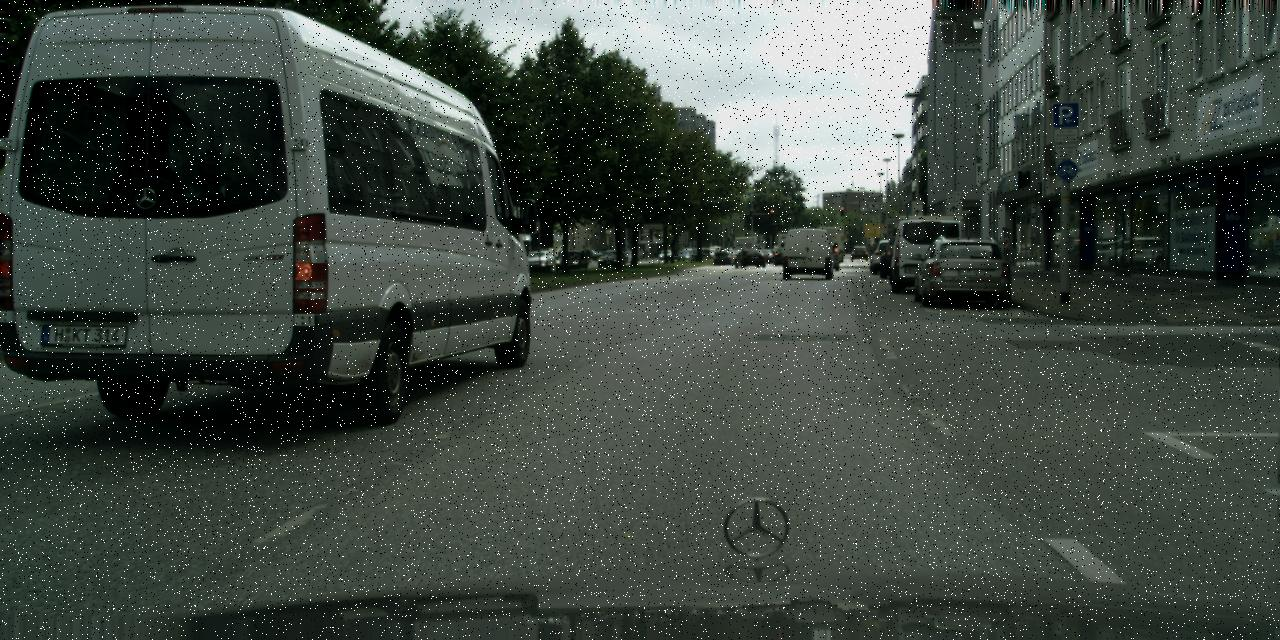ped: (638, 248, 643, 262), (557, 250, 562, 262), (644, 249, 648, 262)
